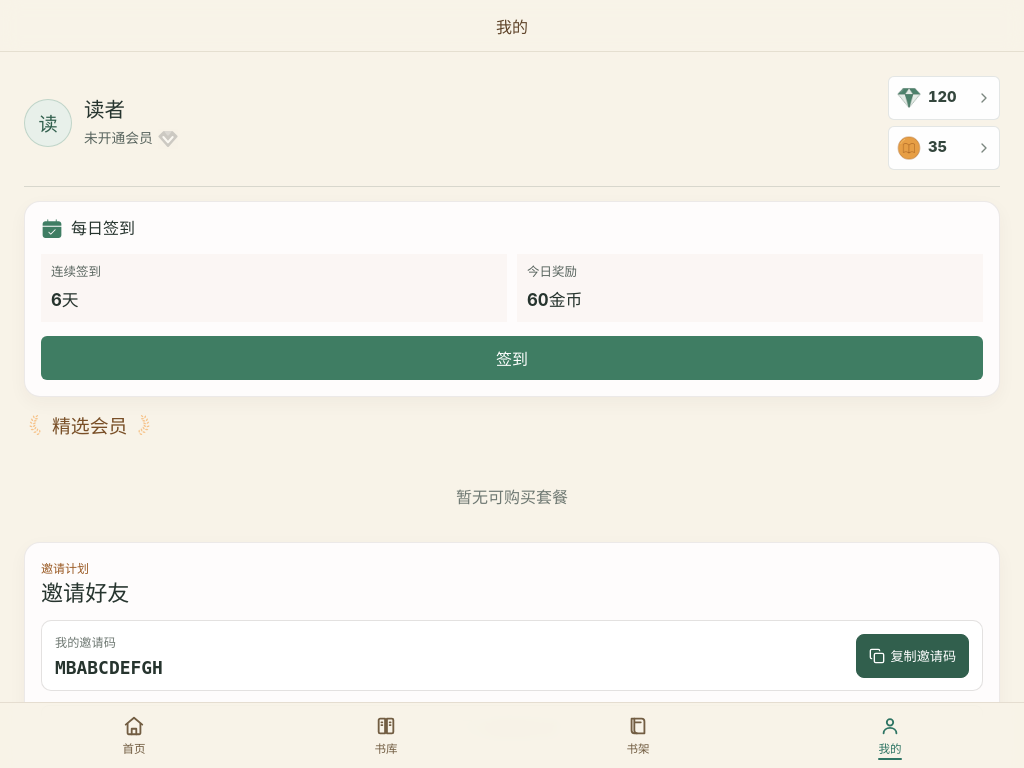
MePage › copies the exact invite code and opens rewards without another request
Step 1. Click the button "复制邀请码" → (913, 656), box [856,634,969,678]
(page scrolled)
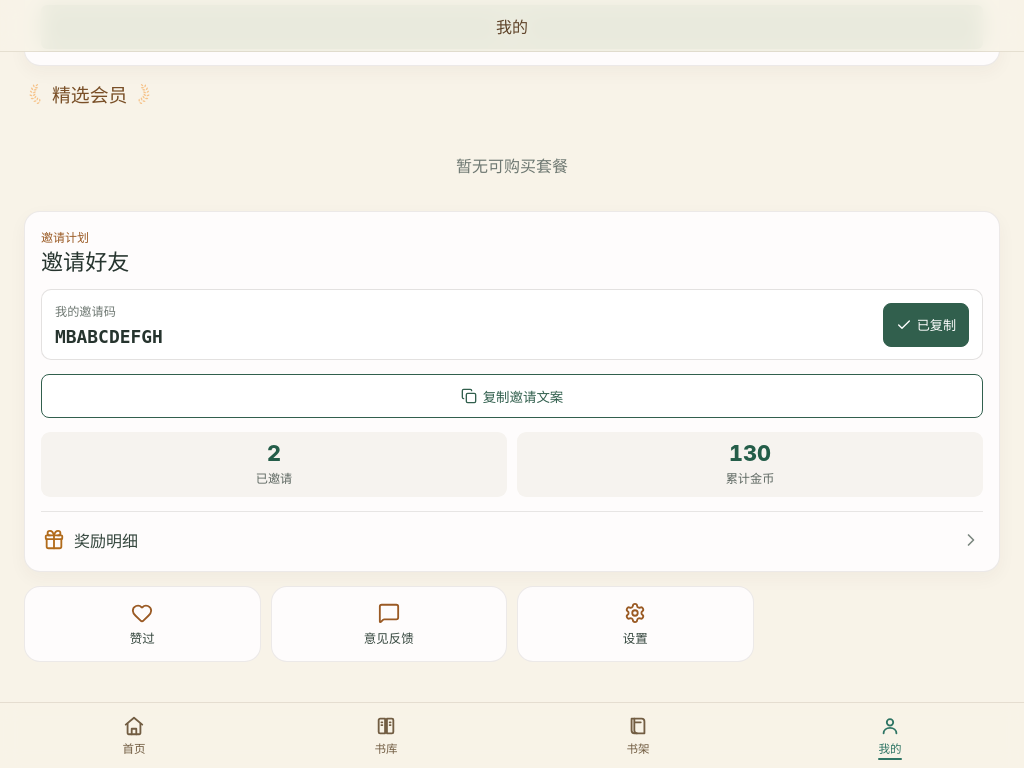
expect the button "已复制" is shown: met, box [883,303,969,347]
Step 2. Click the button "奖励明细" → (106, 541), box [41,511,983,555]
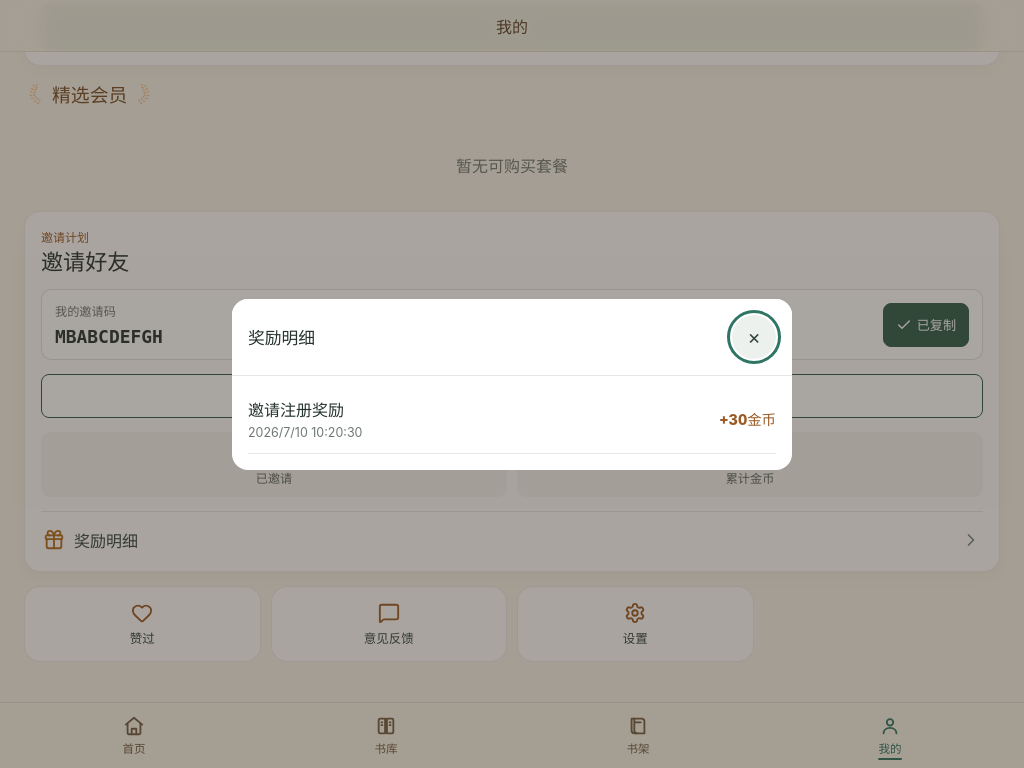
expect the dialog "奖励明细" is shown: met, box [232,298,792,470]
